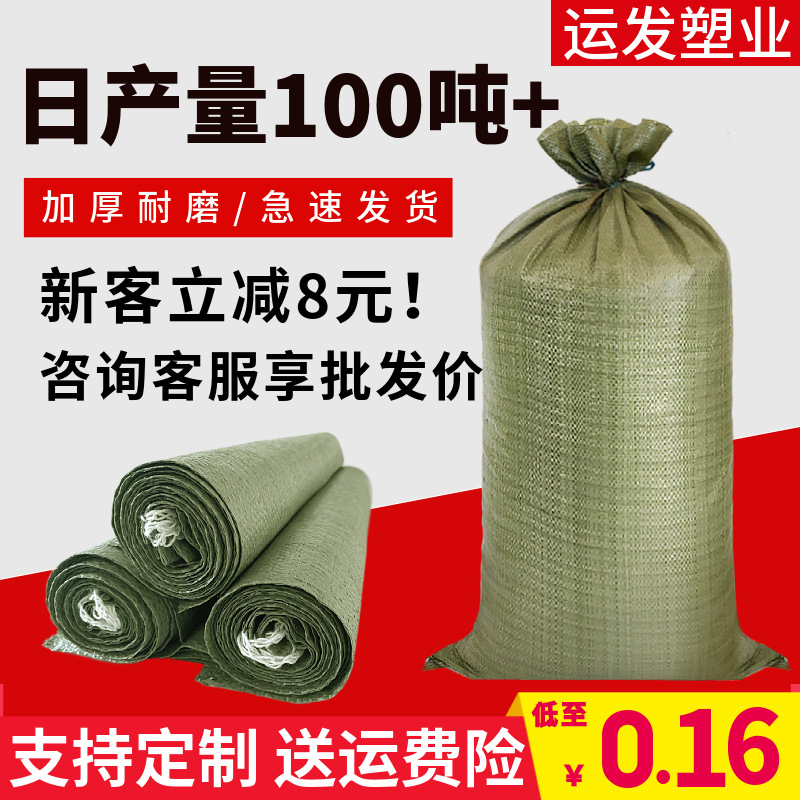Parcel: (426, 119, 787, 680)
